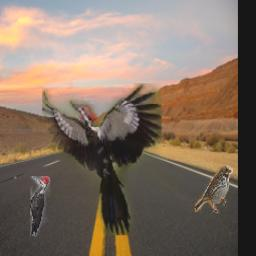Sparrow: (195, 165, 233, 213)
Woodpecker: (41, 84, 161, 236), (30, 177, 50, 237)
